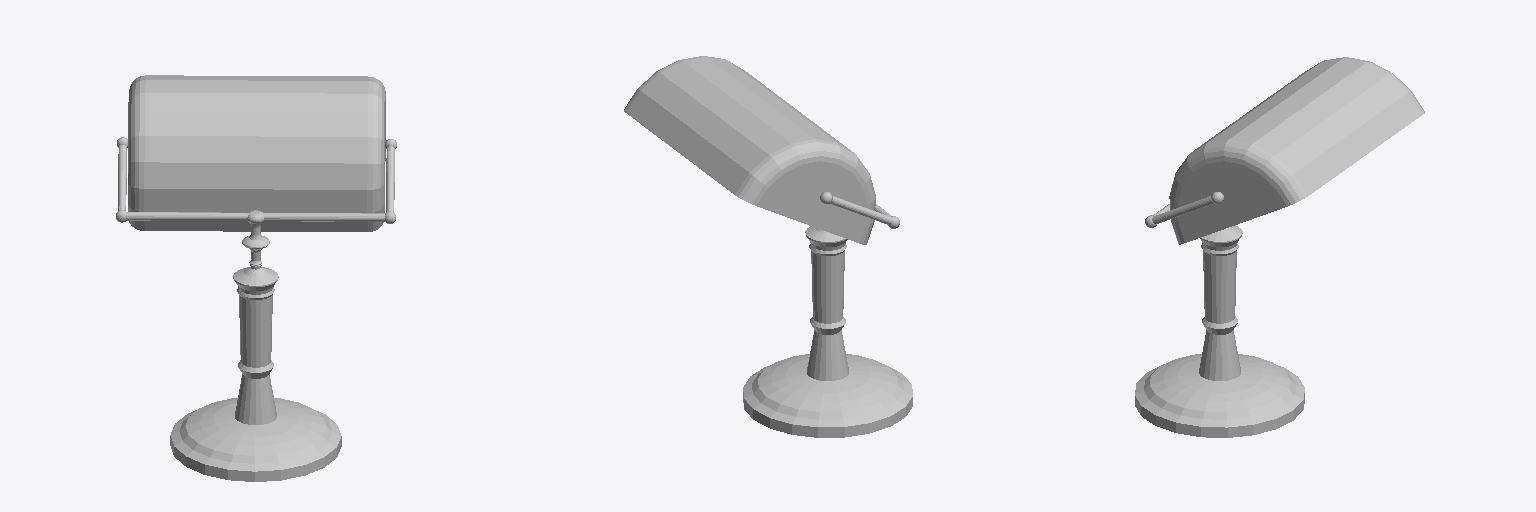
The model's file is lamp.obj.
3 views of the same model, side by side, from view 1: azimuth 30°, elevation 25°; view 2: azimuth 150°, elevation 25°; view 3: azimuth 270°, elevation 25° (orthographic).
Parts seen in each view (by area): view 1: lamp1:pCylinder3 group7, group7 lamp1:maya_project:pCylinder1, group7 lamp1:group2 lamp1:pCylinder4, group7 lamp1:pCylinder6 lamp1:group2, group7 lamp1:group2 lamp1:pCylinder5; view 2: lamp1:pCylinder3 group7, group7 lamp1:maya_project:pCylinder1, group7 lamp1:pCylinder6 lamp1:group2; view 3: lamp1:pCylinder3 group7, group7 lamp1:maya_project:pCylinder1, group7 lamp1:group2 lamp1:pCylinder5.
Boxes of the visible parts, x1=… form: lamp1:pCylinder3 group7: x1=128, y1=75, x2=385, y2=231; group7 lamp1:maya_project:pCylinder1: x1=170, y1=210, x2=341, y2=481; group7 lamp1:group2 lamp1:pCylinder4: x1=127, y1=212, x2=384, y2=221; group7 lamp1:pCylinder6 lamp1:group2: x1=118, y1=145, x2=126, y2=210; group7 lamp1:group2 lamp1:pCylinder5: x1=386, y1=146, x2=394, y2=211; lamp1:pCylinder3 group7: x1=624, y1=56, x2=875, y2=244; group7 lamp1:maya_project:pCylinder1: x1=743, y1=226, x2=912, y2=437; group7 lamp1:pCylinder6 lamp1:group2: x1=830, y1=196, x2=892, y2=224; lamp1:pCylinder3 group7: x1=1169, y1=57, x2=1424, y2=244; group7 lamp1:maya_project:pCylinder1: x1=1135, y1=225, x2=1304, y2=437; group7 lamp1:group2 lamp1:pCylinder5: x1=1152, y1=196, x2=1213, y2=223.
Size of the model in its own units: 2.92 by 3.31 by 2.71.